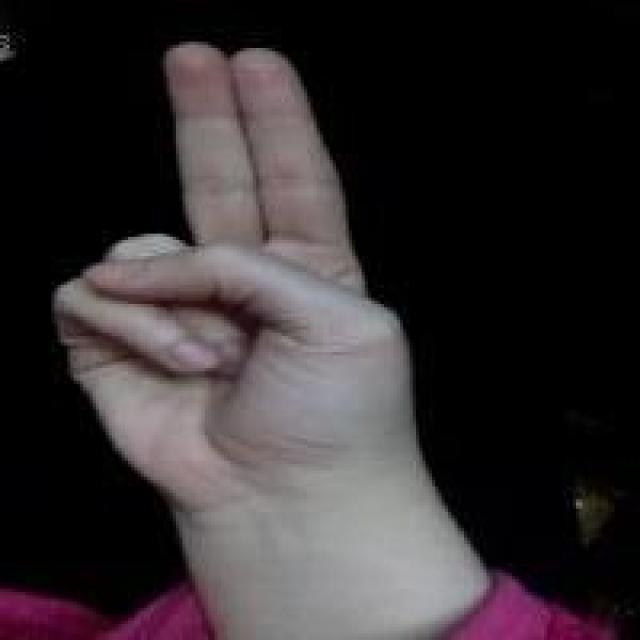U: (46, 36, 424, 482)
